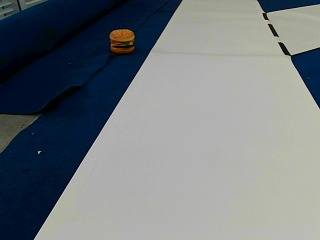burger: (108, 26, 135, 52)
